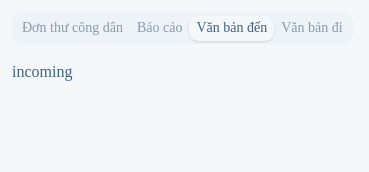
thanh tab theo prototype › bấm tab Đơn thư thì chọn tab ấy; mũi tên trái/phải đi vòng
The image size is (369, 172).
Click the tab "Đơn thư công dân". click: point(72, 28)
box: [15,16,130,40]
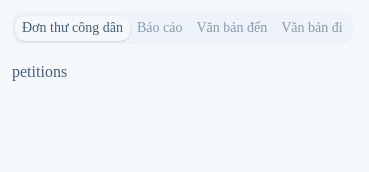
Expected: the text with test id "dang-chon" reads "petitions", [12,63,67,80]
Press ArrowRight in the element showing "Đơn thư công dân Báo cáo Văn bản đến Văn bản đi", box [12,12,353,44]
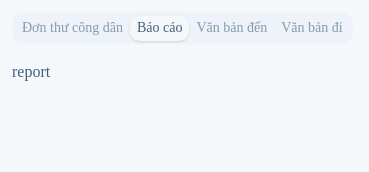
Expected: the text with test id "dang-chon" reads "report", [12,63,50,80]
Press ArrowLeft in the element showing "Đơn thư công dân Báo cáo Văn bản đến Văn bản đi", box [12,12,353,44]
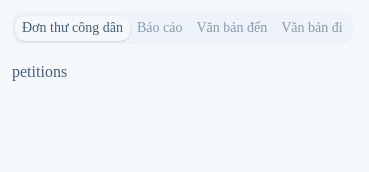
Press ArrowLeft in the element showing "Đơn thư công dân Báo cáo Văn bản đến Văn bản đi", box [12,12,353,44]
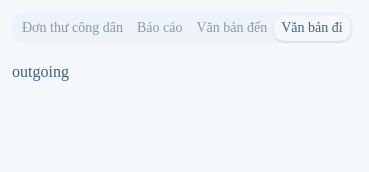
Expected: the text with test id "dang-chon" reads "outgoing", [12,63,69,80]
